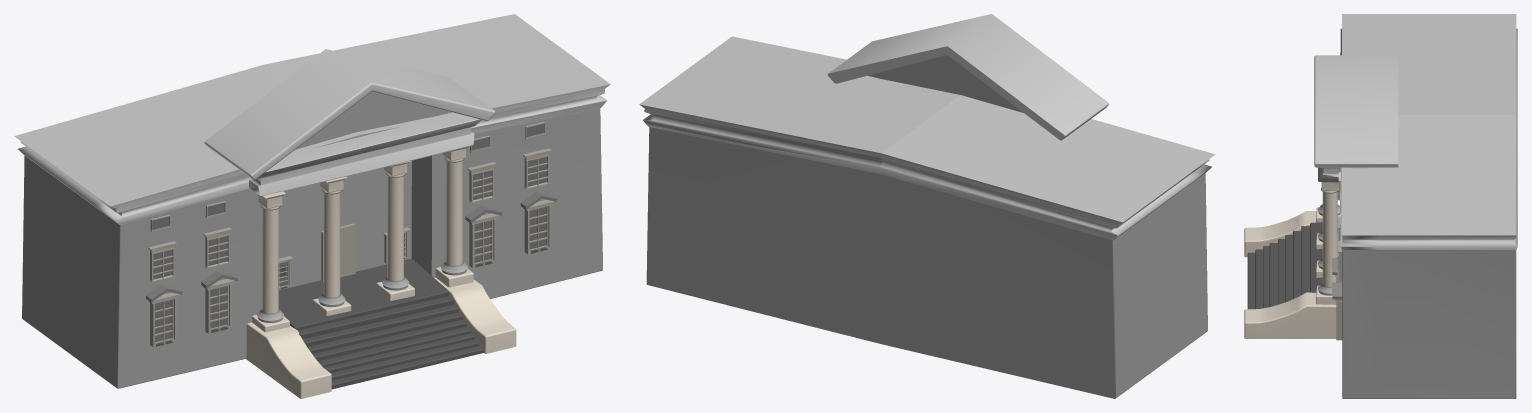
File: Bear_T6_Town_Hall.fbx
3 views of the same model, side by side, from view 1: azimuth 30°, elevation 25°; view 2: azimuth 150°, elevation 25°; view 3: azimuth 270°, elevation 25° (orthographic). The views are drawn at different scales.
Parts seen in each view (by area): view 1: TOWN_HALL_BODY, STAIRS, TOP_DECOR, FRONT_DECOR, SIDE_STEP_LEFT, INSIDE_DECOR, SIDE_STEP_RIGHT, COLUMN_BODY_3, COLUMN_BODY_1, COLUMN_BODY_2, COLUMN_BODY_4, BOTTOM_WINDOW2 (+8 smaller); view 2: TOWN_HALL_BODY, TOP_DECOR, INSIDE_DECOR; view 3: TOWN_HALL_BODY, TOP_DECOR, STAIRS, SIDE_STEP_RIGHT, COLUMN_BODY_1, SIDE_STEP_LEFT, BOTTOM_WINDOW, FRONT_DECOR.
Boxes of the visible parts, x1=… form: TOWN_HALL_BODY: x1=14, y1=14, x2=610, y2=388; STAIRS: x1=278, y1=258, x2=483, y2=389; TOP_DECOR: x1=204, y1=49, x2=495, y2=179; FRONT_DECOR: x1=249, y1=113, x2=481, y2=196; SIDE_STEP_LEFT: x1=246, y1=322, x2=331, y2=398; INSIDE_DECOR: x1=295, y1=91, x2=451, y2=149; SIDE_STEP_RIGHT: x1=434, y1=277, x2=516, y2=353; COLUMN_BODY_3: x1=318, y1=188, x2=345, y2=307; COLUMN_BODY_1: x1=441, y1=156, x2=467, y2=275; COLUMN_BODY_2: x1=382, y1=172, x2=409, y2=290; COLUMN_BODY_4: x1=257, y1=204, x2=283, y2=322; BOTTOM_WINDOW2: x1=146, y1=284, x2=182, y2=347; TOWN_HALL_BODY: x1=639, y1=36, x2=1215, y2=398; TOP_DECOR: x1=827, y1=14, x2=1108, y2=140; INSIDE_DECOR: x1=868, y1=55, x2=1023, y2=112; TOWN_HALL_BODY: x1=1340, y1=14, x2=1517, y2=398; TOP_DECOR: x1=1314, y1=55, x2=1398, y2=167; STAIRS: x1=1247, y1=222, x2=1338, y2=309; SIDE_STEP_RIGHT: x1=1244, y1=292, x2=1336, y2=338; COLUMN_BODY_1: x1=1318, y1=188, x2=1338, y2=295; SIDE_STEP_LEFT: x1=1244, y1=211, x2=1316, y2=257; BOTTOM_WINDOW: x1=1332, y1=282, x2=1342, y2=340; FRONT_DECOR: x1=1318, y1=167, x2=1338, y2=181.
Size of the model in its own units: 2108 by 1053 by 1100.
